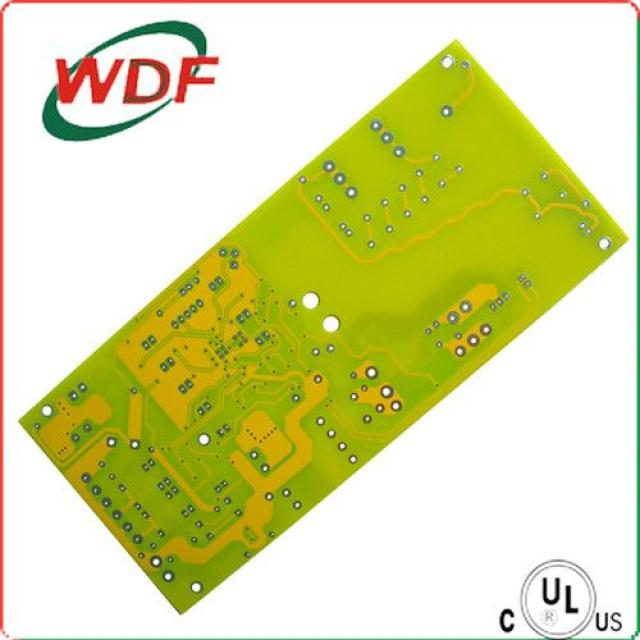pcb: (15, 34, 630, 616)
